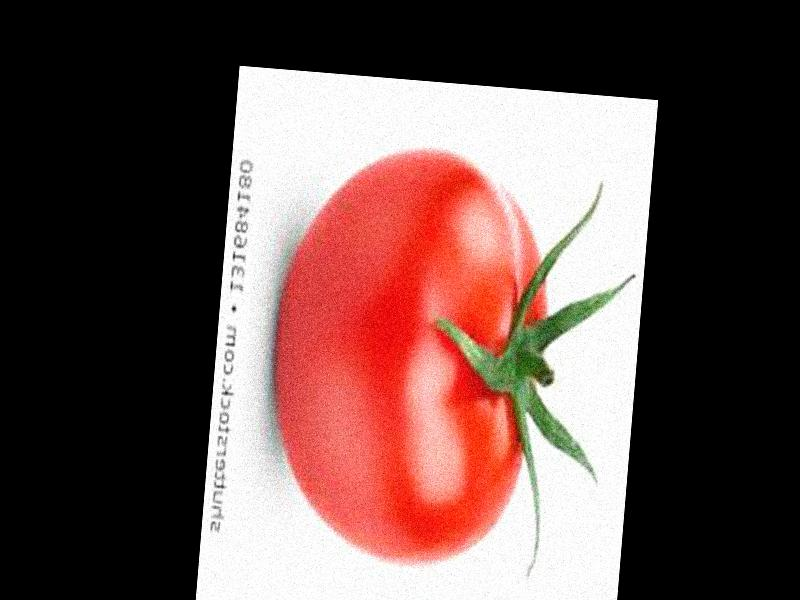Tomato: (262, 137, 557, 572)
